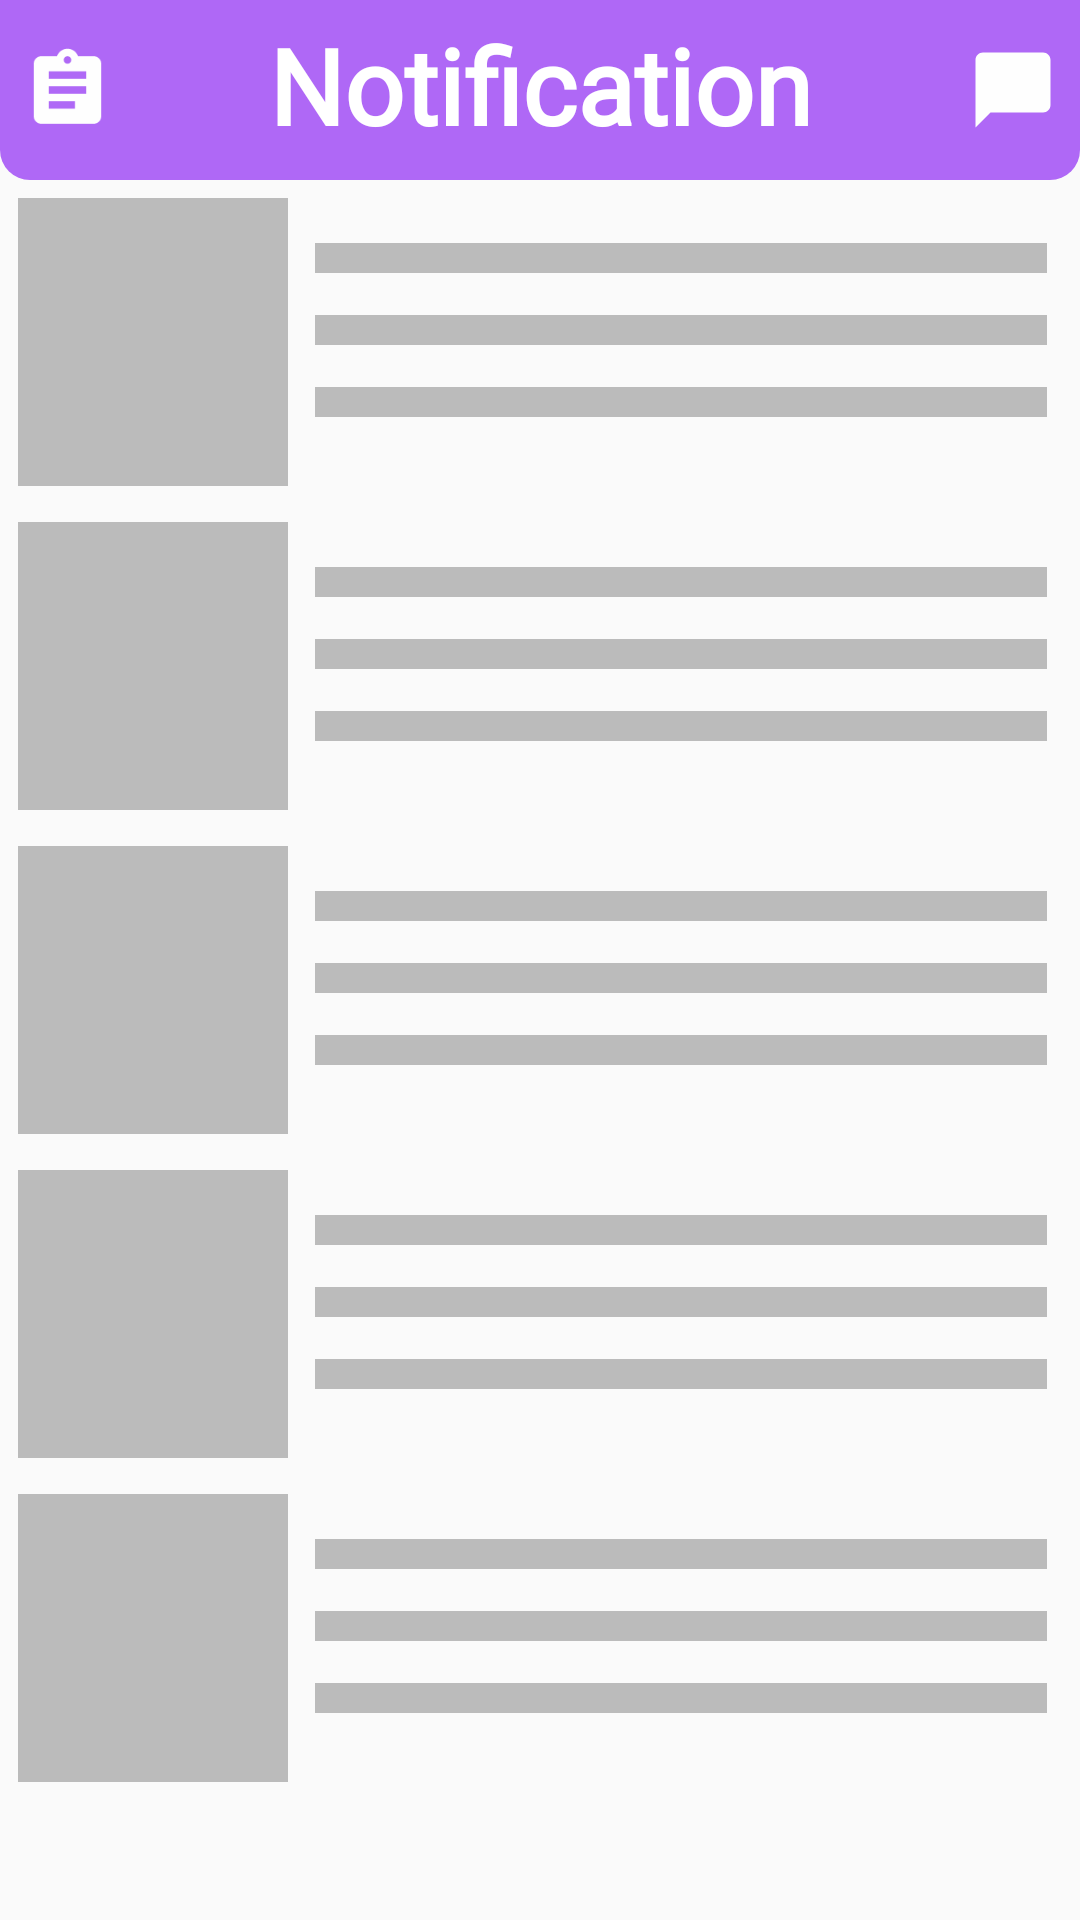

Screen size 1080x1920. Icon name, then its center in pixels as point (x, y):
assignment: point (67, 86)
chat bubble: point (1013, 89)
